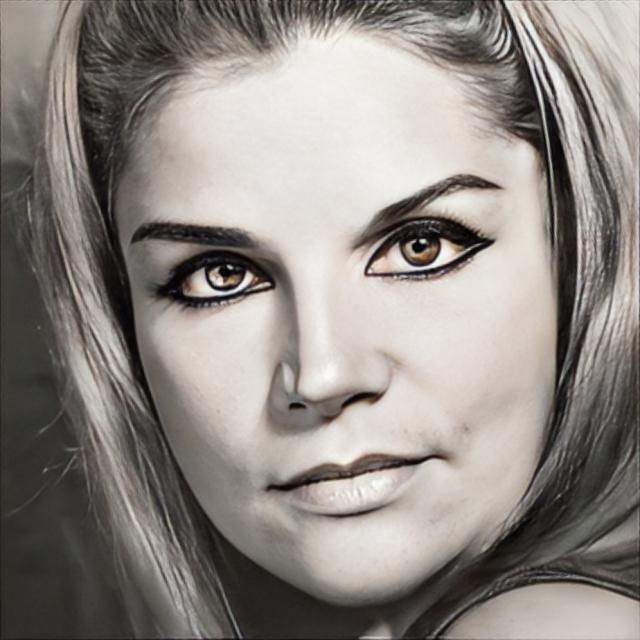neutral: (113, 18, 559, 608)
